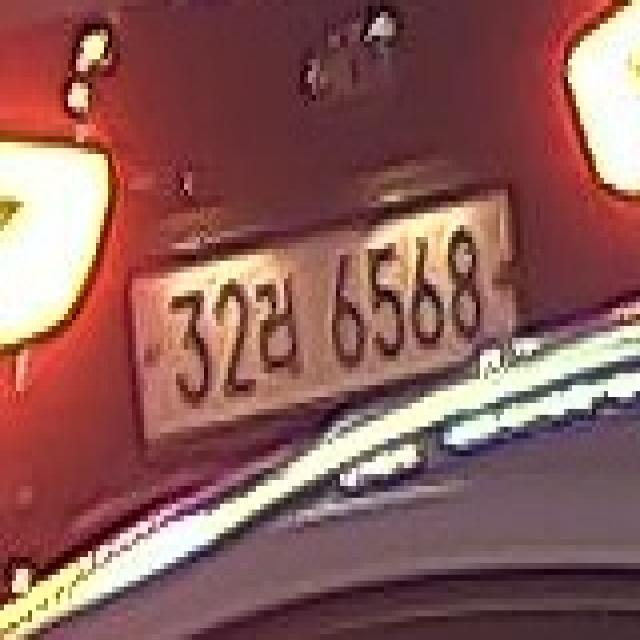2: (208, 279, 256, 397)
3: (164, 284, 216, 403)
5: (364, 243, 404, 361)
6: (408, 231, 448, 350), (324, 249, 364, 367)
8: (444, 219, 488, 344)
leo: (252, 267, 304, 385)
license_plate: (132, 190, 520, 450)
